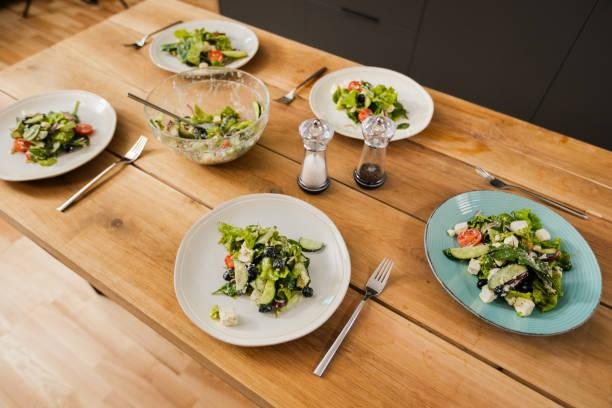Braised Crucian Carp: (173, 192, 347, 346), (422, 190, 601, 336), (142, 69, 273, 168), (1, 87, 118, 183), (307, 66, 433, 142), (145, 17, 261, 79)
